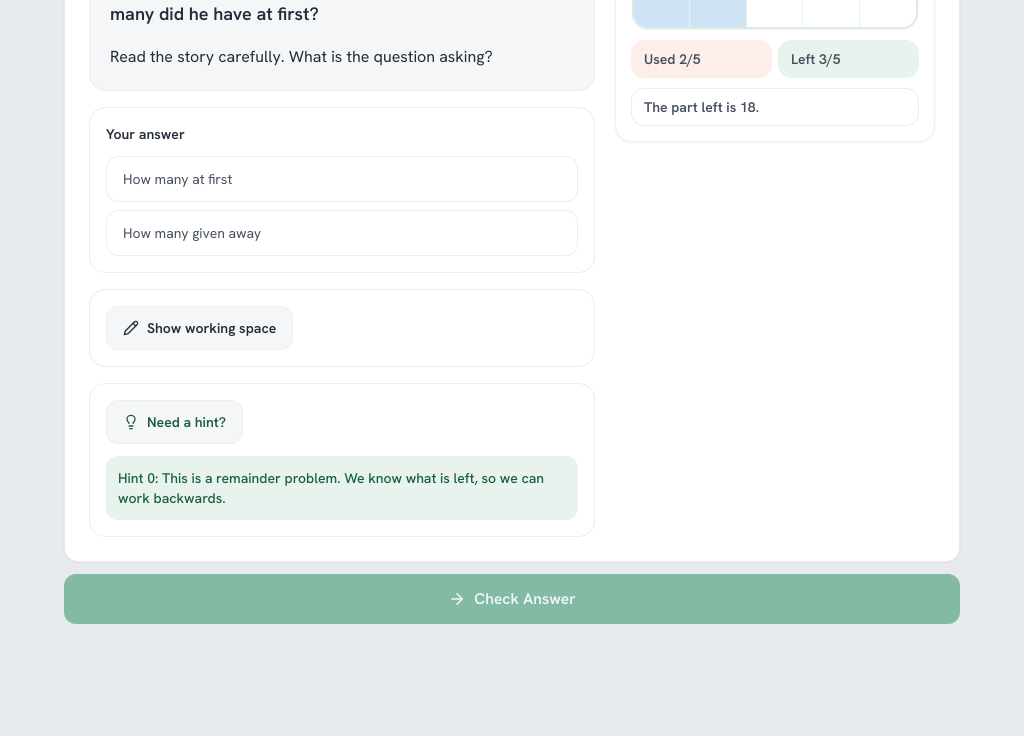
Test: FractionsStoryModeSession direct routes › reveals progressive hints only after the student asks
The width and height of the screenshot is (1024, 736).
(page scrolled)
Expected: the text "Hint 1:" is not shown
Click the button "Need a hint?": x=174, y=422 [106,400,243,444]
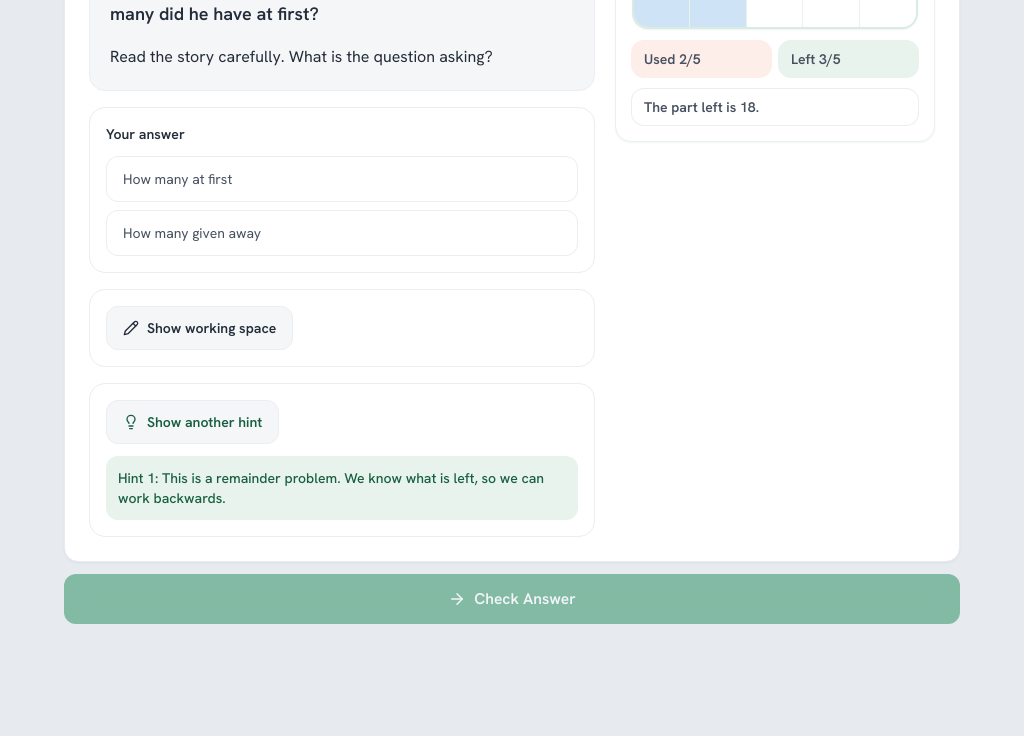
Now the text "Hint 1:" is shown, box [106,456,578,520]
